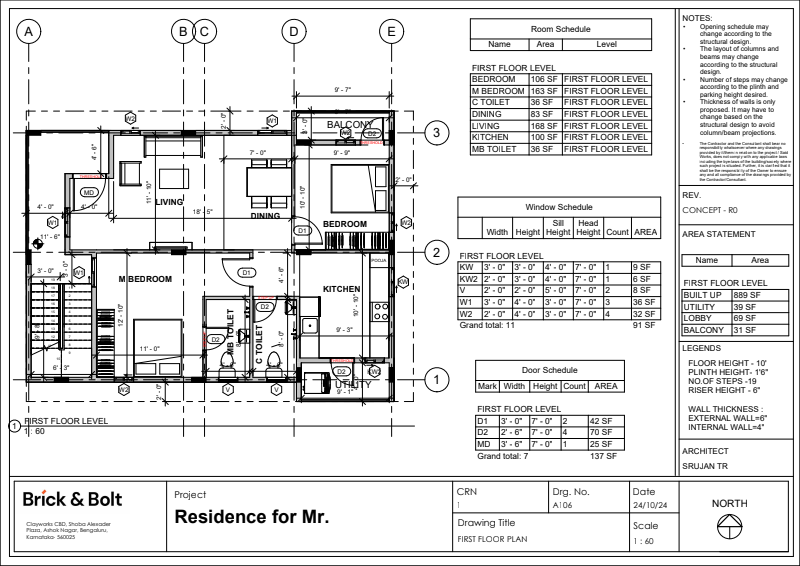door: (71, 175, 108, 215), (221, 255, 253, 289), (293, 214, 323, 247), (252, 295, 279, 325), (329, 358, 356, 387), (204, 326, 232, 352), (361, 117, 386, 144)
